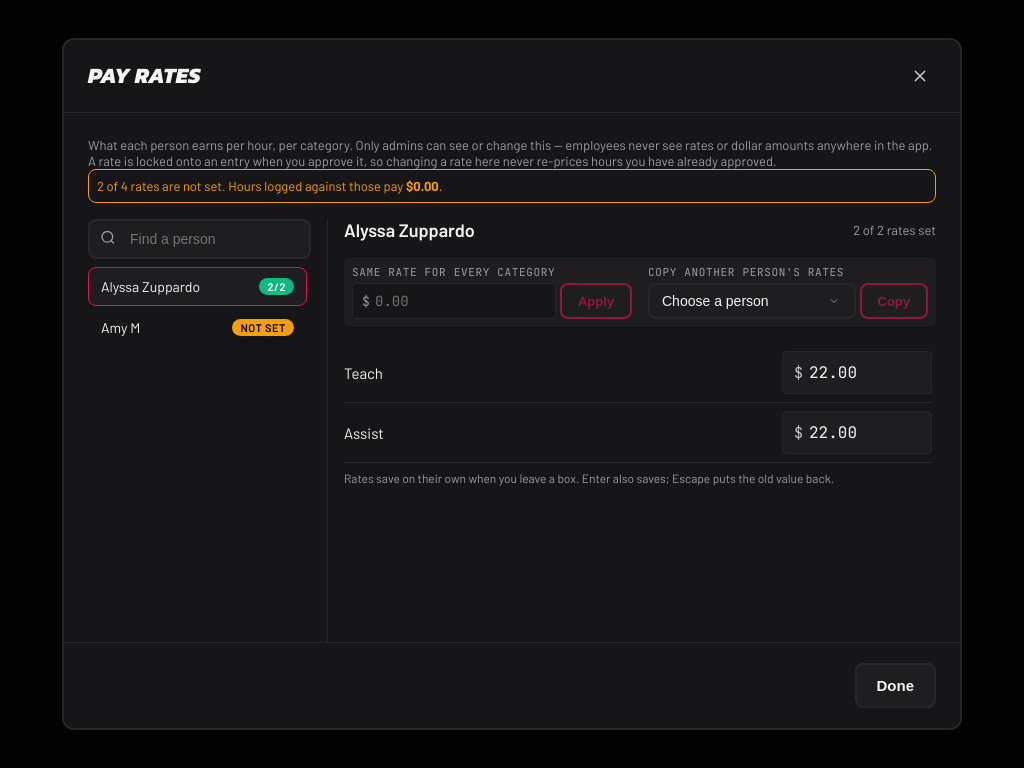
desktop › filters the person list by search
Type "amy" into the field with placeholder "Find a person" at (200,239), box left=88, top=219, right=311, bottom=259
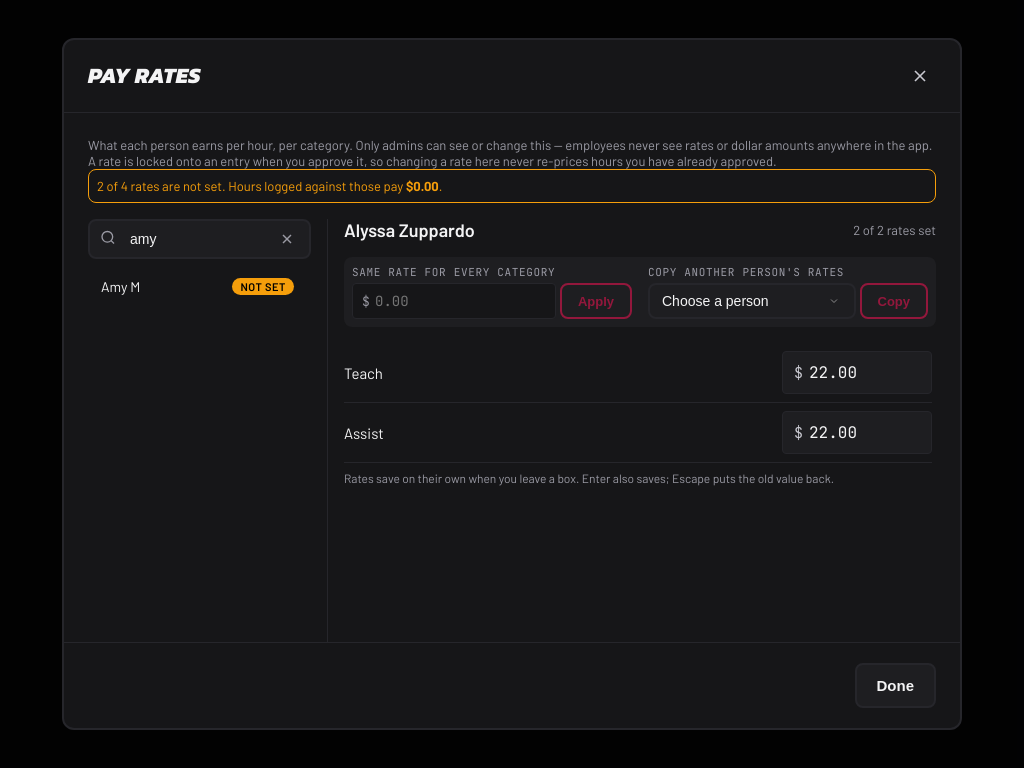
Expected: the number of options is 1, left=88, top=267, right=307, bottom=306
